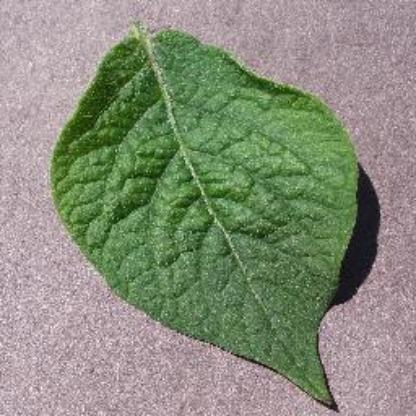Healthy-plant: (47, 15, 383, 407)
